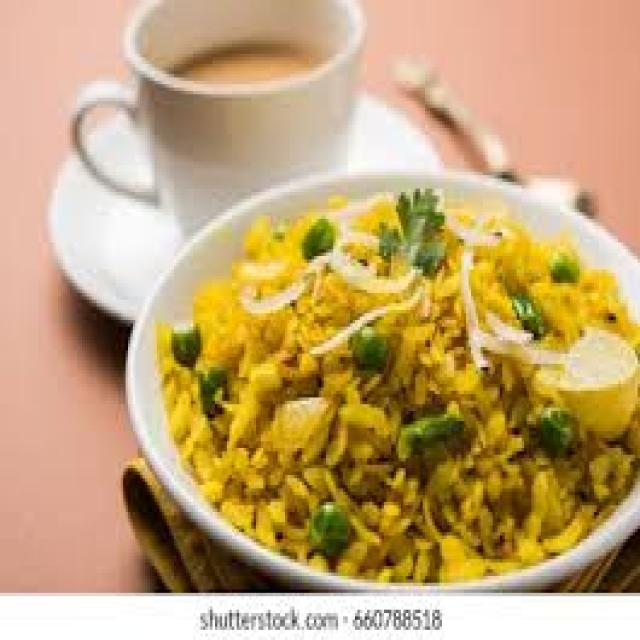POHA: (161, 204, 638, 578)
